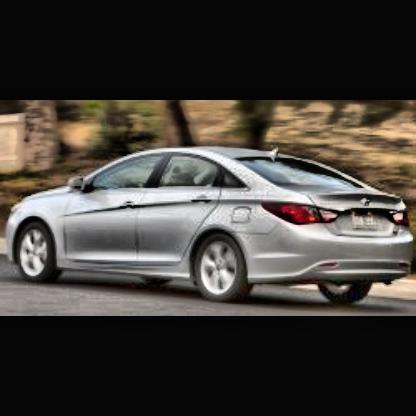Hyundai Sonata Sedan 2012: (12, 144, 416, 303)
